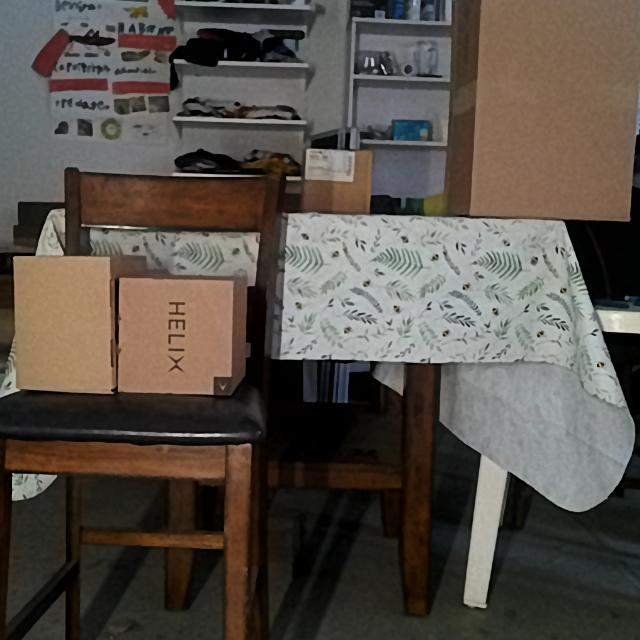box: (476, 0, 640, 216), (12, 255, 116, 391), (119, 276, 232, 393), (304, 147, 371, 212)
